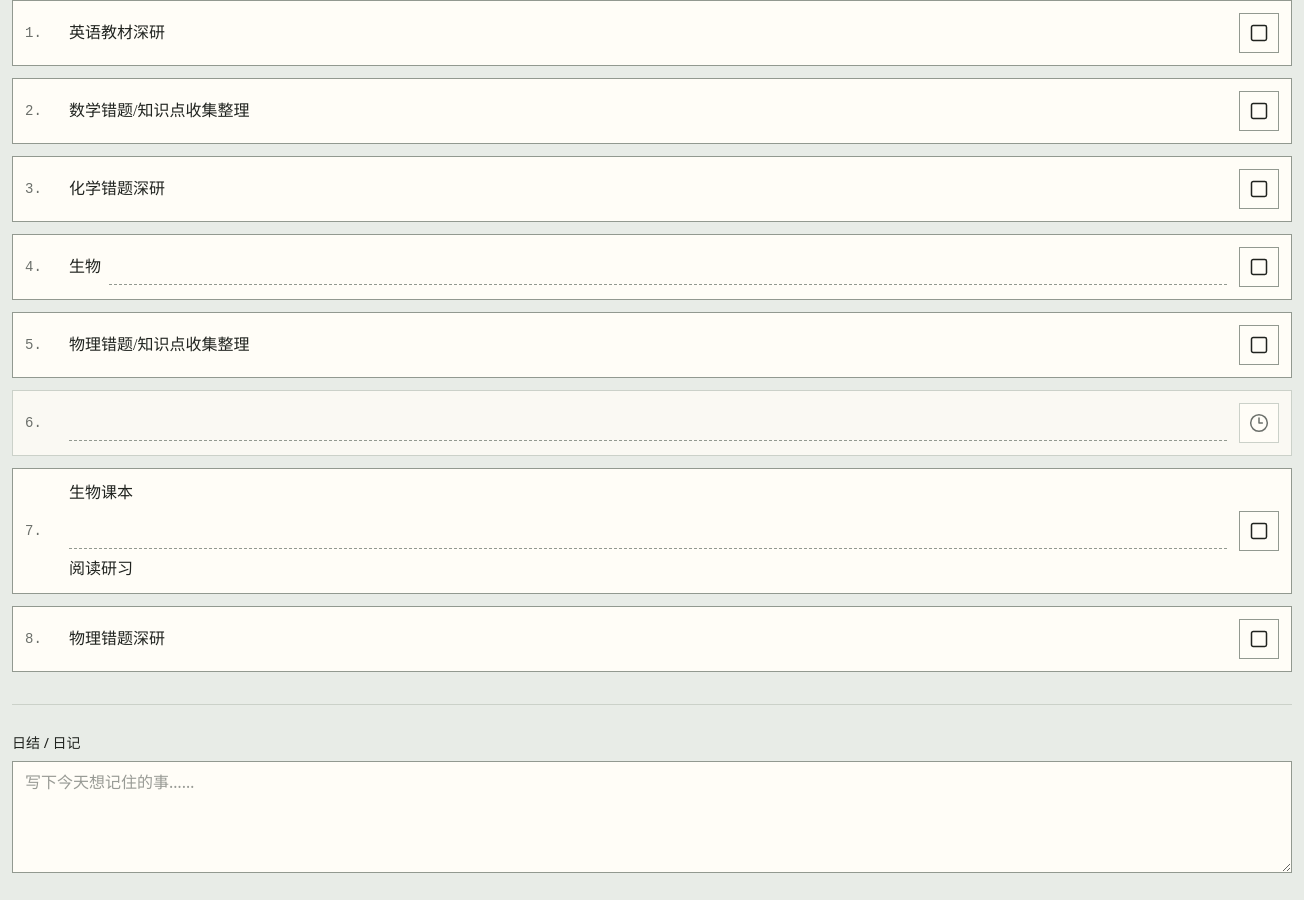
Test case: WeekdayPlan › cycles today through completed, missed, and completed visuals
Step 1. Click the button named "标记为已完成" in the row of "英语教材深研" → (1259, 33), box [1239,13,1279,53]
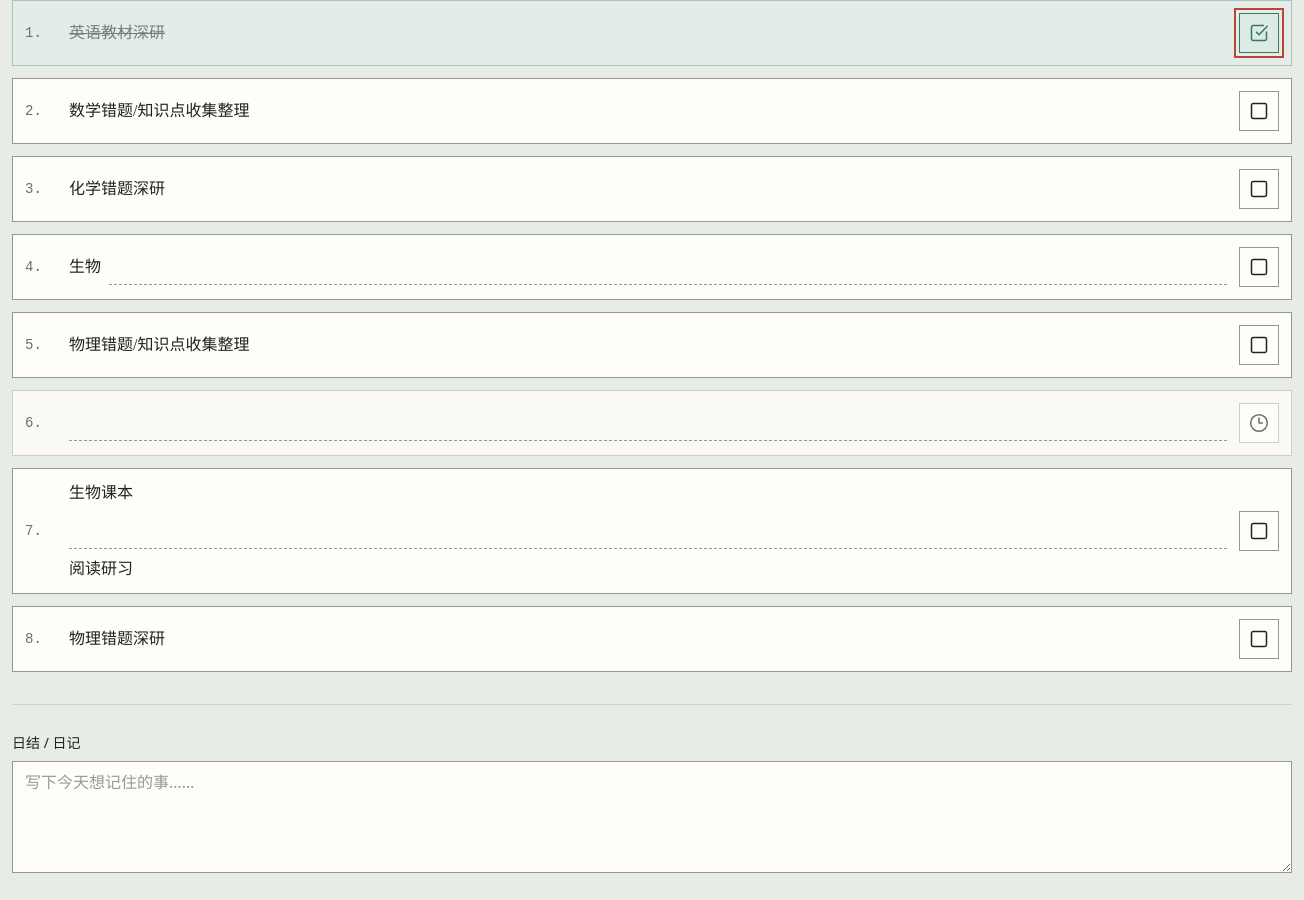
Expected: the list item named "取消完成并标记为未完成" shows "英语教材深研", [69,24,165,41]
Step 2. Click the button named "取消完成并标记为未完成" → (1259, 33), box [1239,13,1279,53]
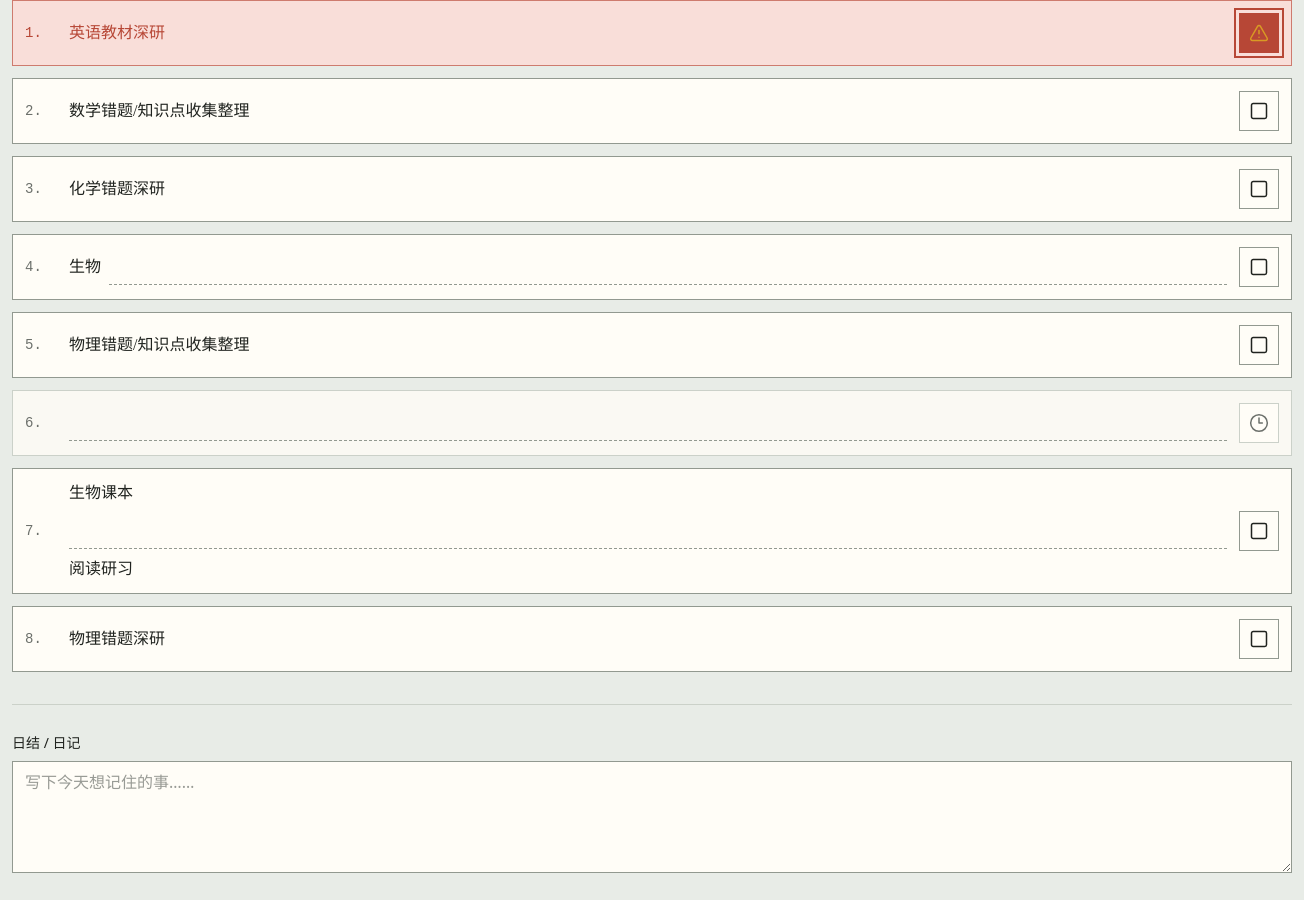
Expected: the list item named "取消完成并标记为未完成" has class "bg-missed", [12,0,1292,66]
Step 3. Click the button named "重新标记为已完成" → (1259, 33), box [1239,13,1279,53]
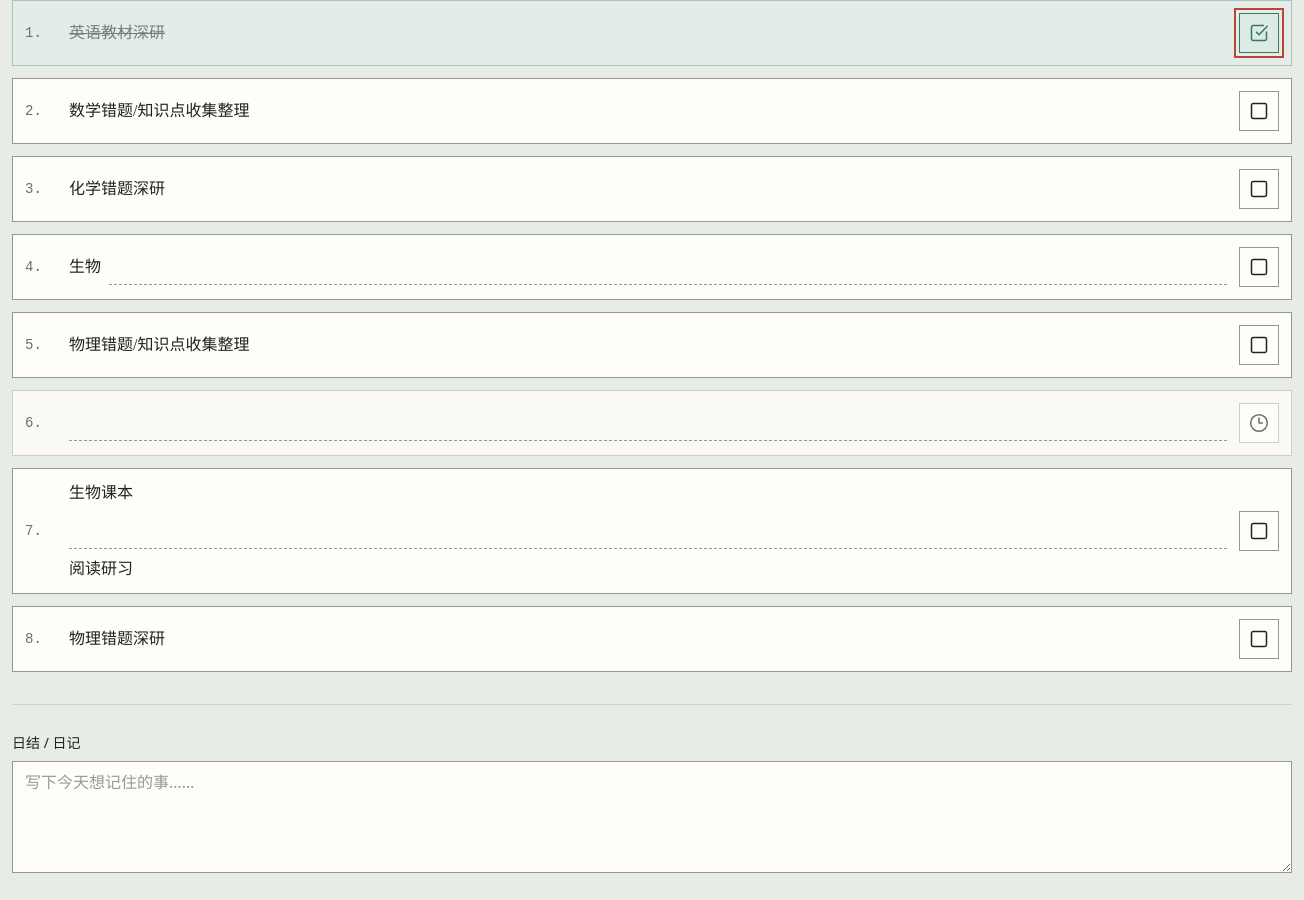
Expected: the button named "取消完成并标记为未完成" is shown, [1239,13,1279,53]
